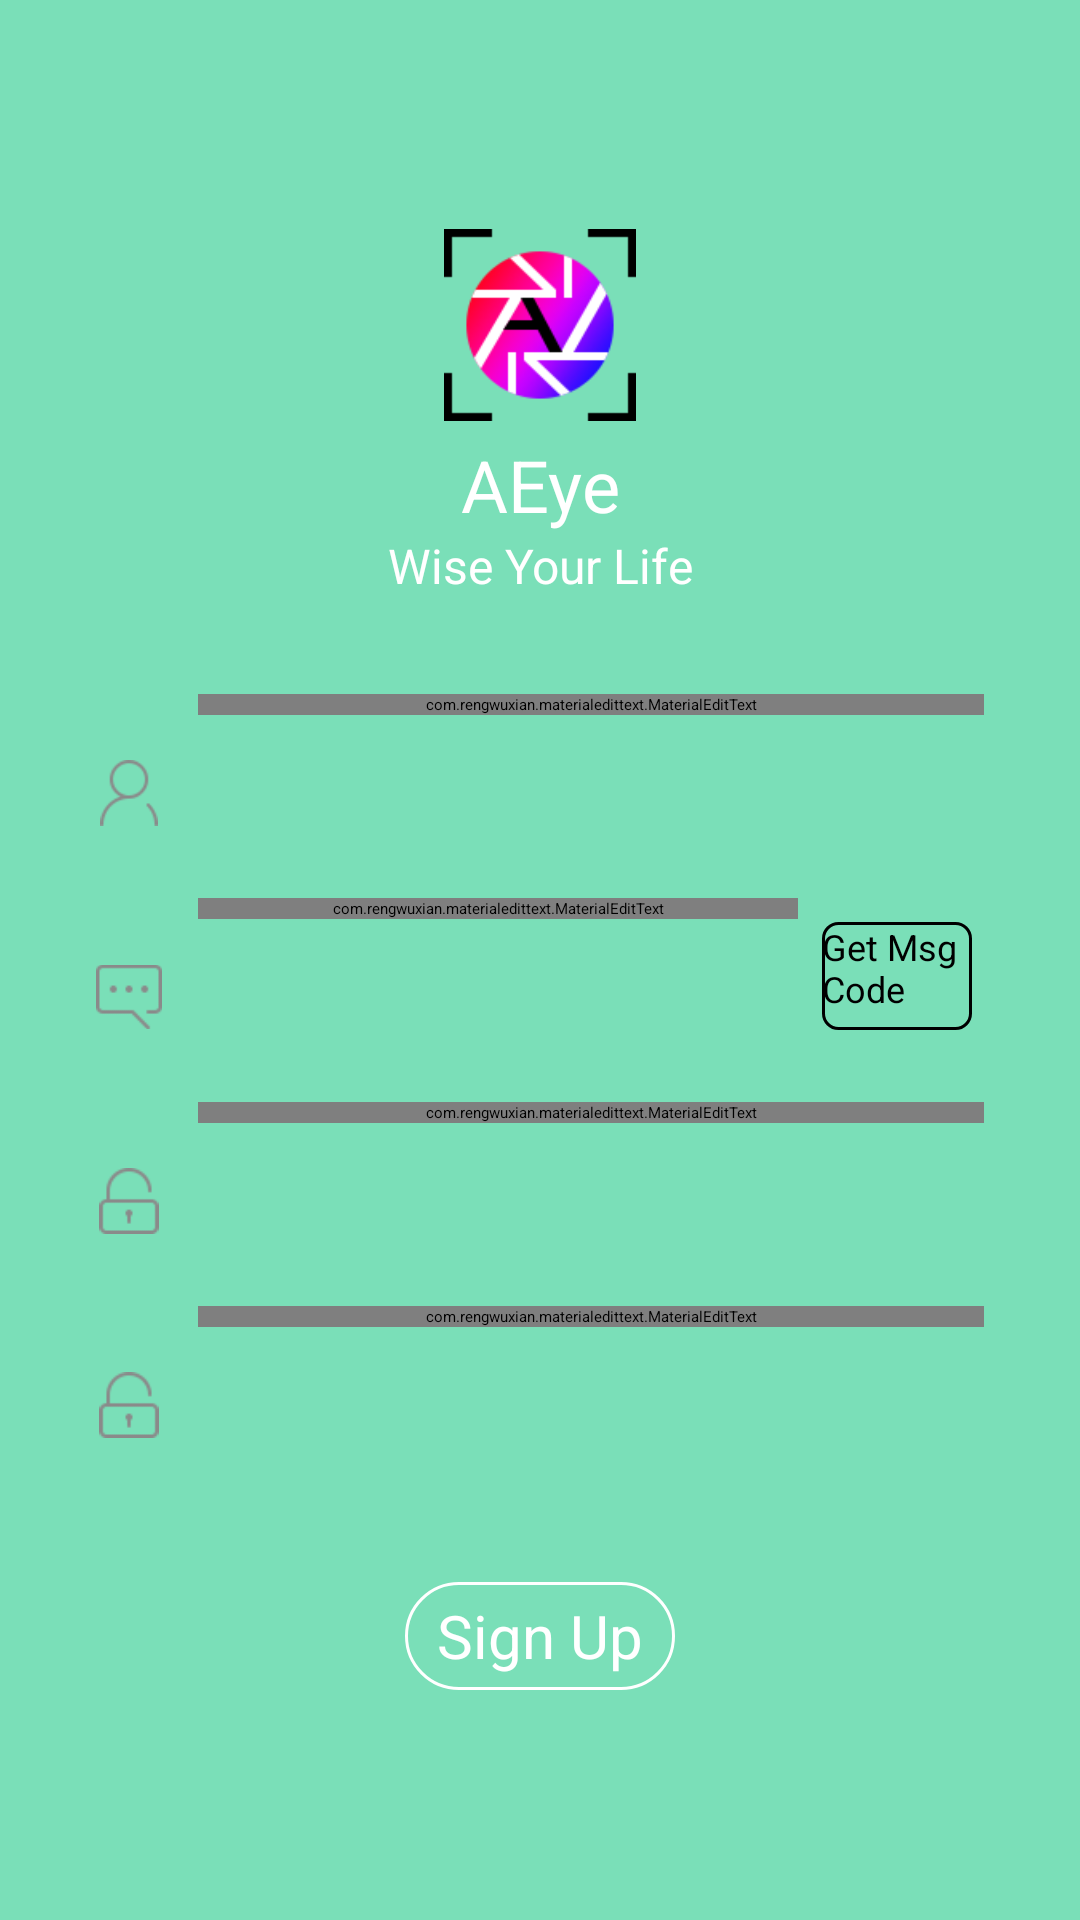

Where to tap for icons on this 1080 × 1920 app screen, as point (x, y):
account: point (129, 793)
lock: point (129, 1201), point (129, 1405)
